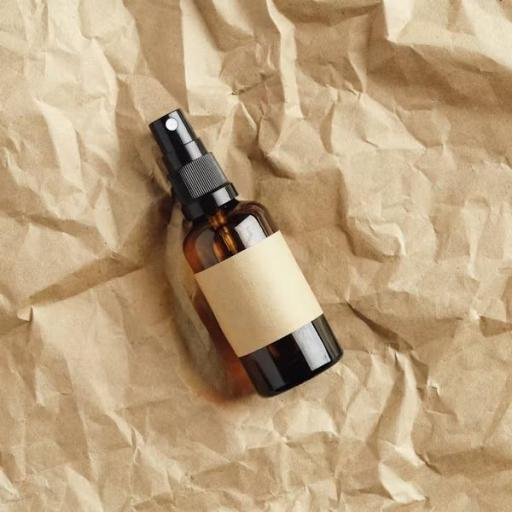bottle: (142, 94, 355, 404)
